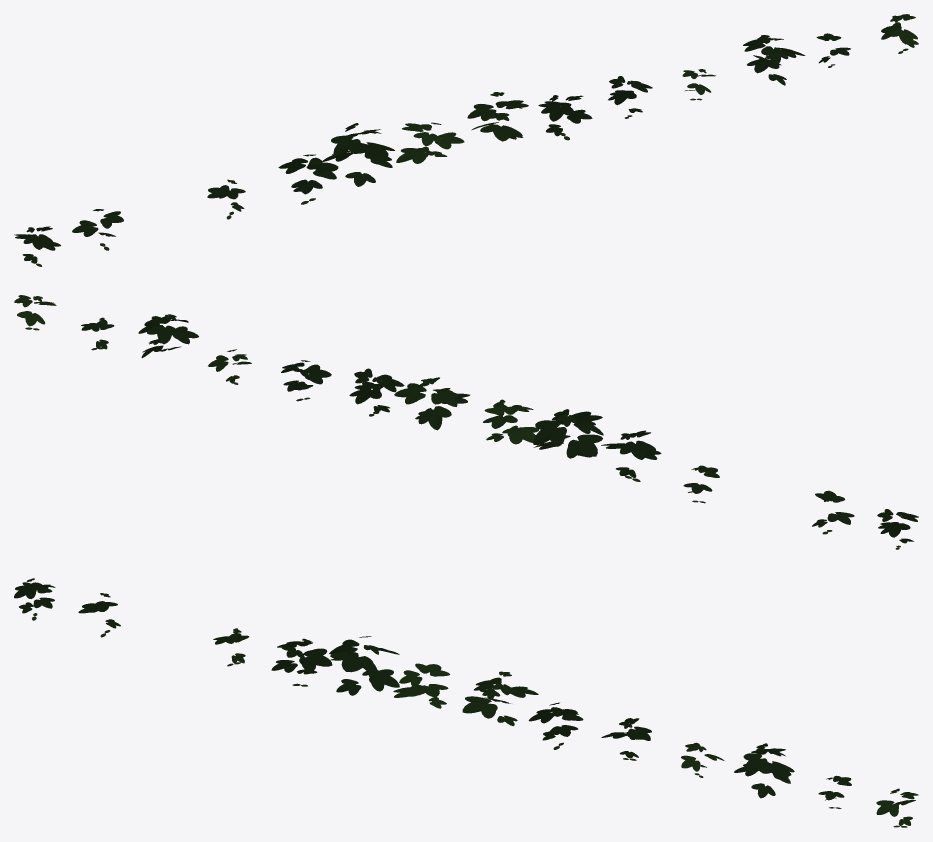
File: ROW_02_SEG5_foliage.dae
The picture shows the model from 3 angles, top to bottom: view 1: azimuth 30°, elevation 25°; view 2: azimuth 150°, elevation 25°; view 3: azimuth 330°, elevation 25°; orthographic projection.
Parts seen in each view (by area): view 1: ROW_02_SEG5_foliage; view 2: ROW_02_SEG5_foliage; view 3: ROW_02_SEG5_foliage.
Part boxes in pixels (x1=…): ROW_02_SEG5_foliage: x1=14, y1=14, x2=918, y2=266; ROW_02_SEG5_foliage: x1=14, y1=295, x2=918, y2=549; ROW_02_SEG5_foliage: x1=14, y1=578, x2=918, y2=827.
Bounding box in the file's own units: 4.11 × 0.3126 × 0.2569.
